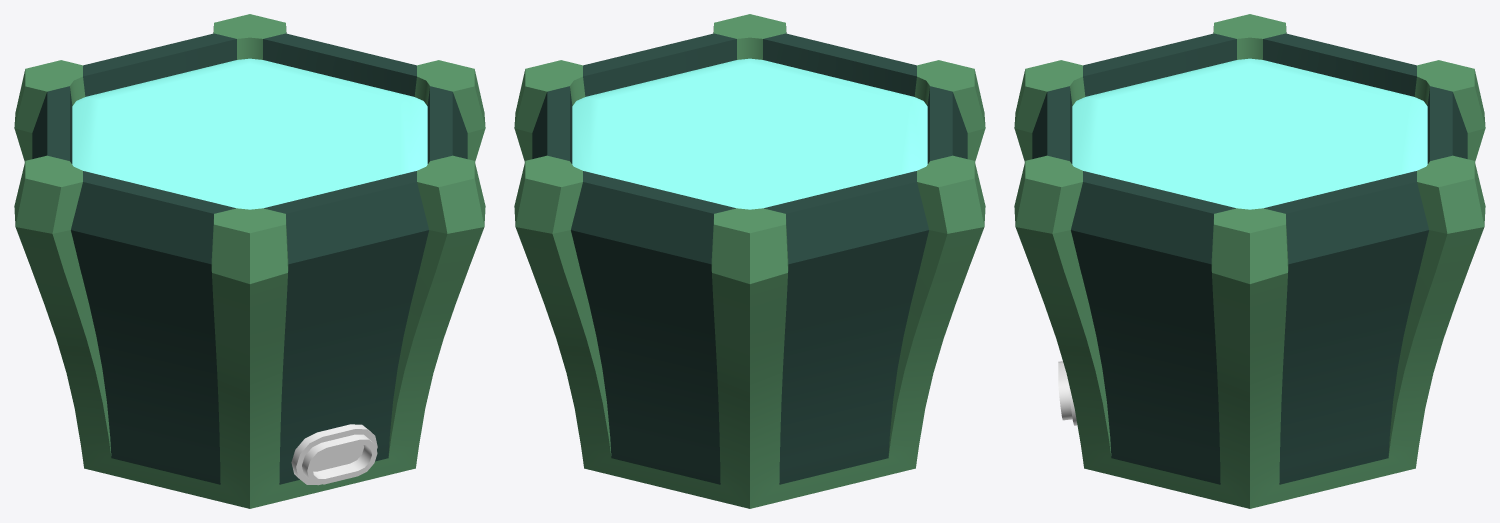
Rendered from Misc_HoloPot_02.fbx.
3 renders of one model, left to right at view 1: azimuth 30°, elevation 25°; view 2: azimuth 150°, elevation 25°; view 3: azimuth 270°, elevation 25°, orthographic.
Visible parts, largest first — view 1: Misc_HoloPot_02.001; view 2: Misc_HoloPot_02.001; view 3: Misc_HoloPot_02.001.
Boxes of the visible parts, left/top/right/bottom form: Misc_HoloPot_02.001: left=14, top=14, right=485, bottom=508; Misc_HoloPot_02.001: left=514, top=14, right=985, bottom=508; Misc_HoloPot_02.001: left=1014, top=14, right=1485, bottom=508.
Bounding box in the file's own units: 0.6032 × 0.3741 × 0.5248.
